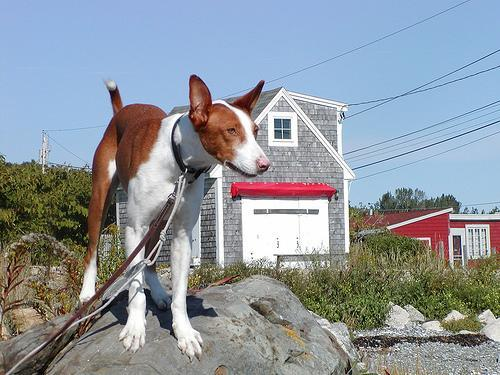Ibizan_hound: (75, 72, 271, 364)
